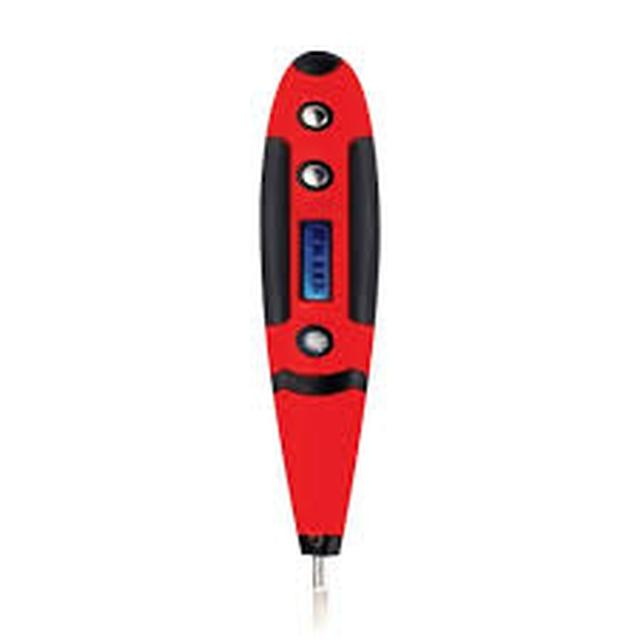pen: (232, 39, 385, 618)
